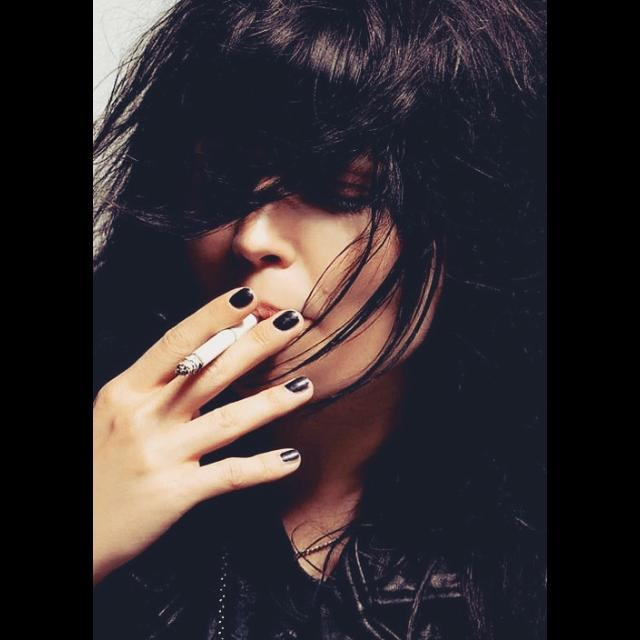rokok: (160, 314, 262, 392)
